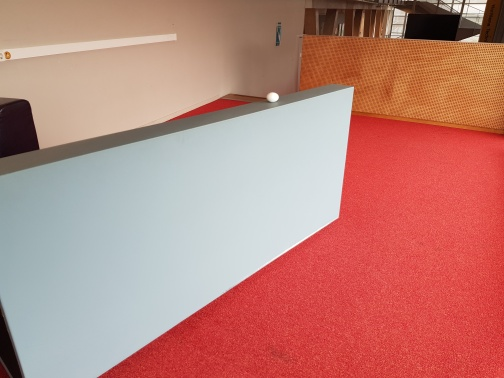egg: (265, 92, 282, 103)
